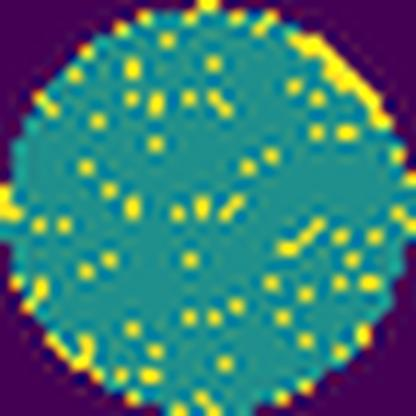Edge-Loc: (288, 31, 397, 135)
